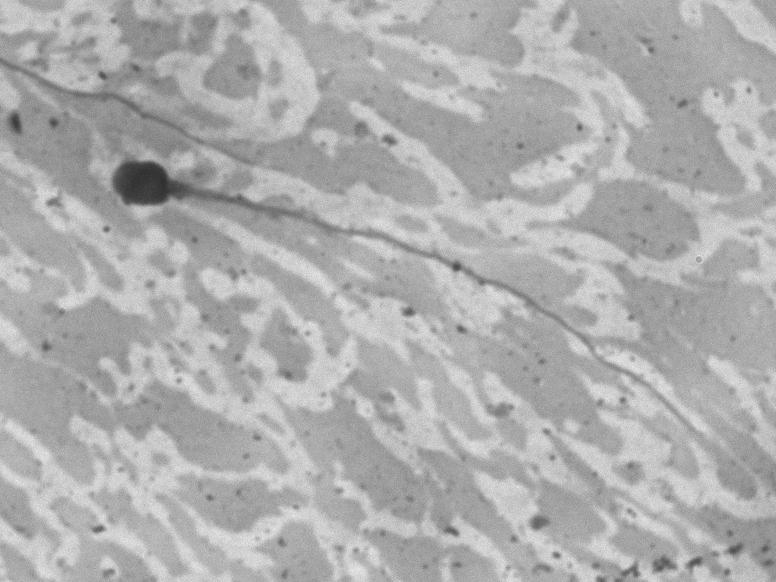Abnormal: (98, 136, 748, 468)
